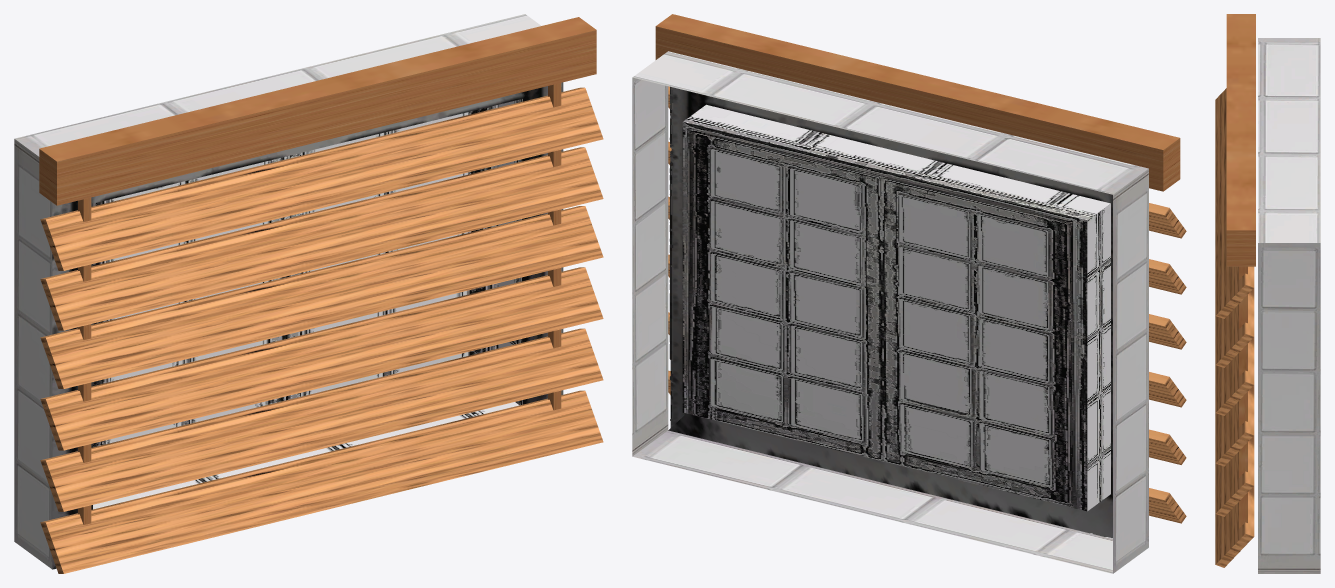
Rendered from Window_Blinds_Closed.fbx.
The picture shows the model from 3 angles, left to right: view 1: azimuth 30°, elevation 25°; view 2: azimuth 150°, elevation 25°; view 3: azimuth 270°, elevation 25°; orthographic projection. The views are drawn at different scales.
Visible parts, largest first — view 1: Window_SIll; view 2: Window_SIll; view 3: Window_SIll.
Boxes of the visible parts, x1,y1,x2,y2 form: Window_SIll: (14, 14, 603, 573); Window_SIll: (632, 14, 1186, 573); Window_SIll: (1215, 14, 1320, 573).
Bounding box in the file's own units: 153 × 115 × 31.46.
